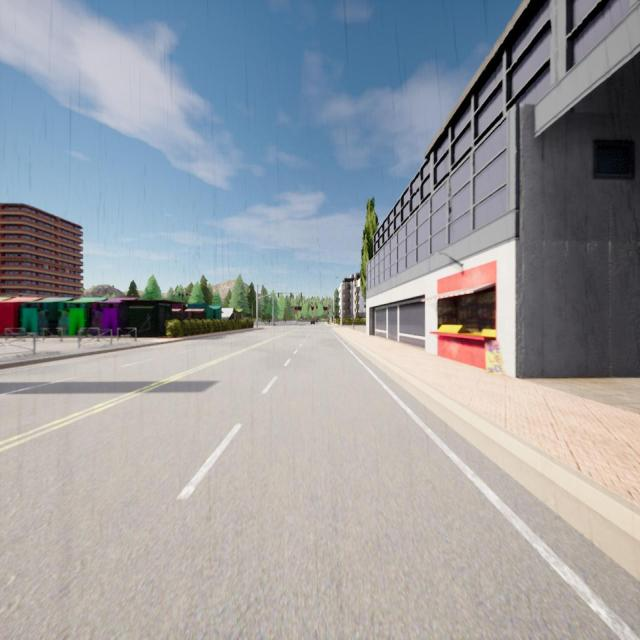Vehicle: (311, 320, 315, 325)
traffic_light: (300, 292, 302, 298), (290, 293, 292, 297), (278, 293, 279, 298)
